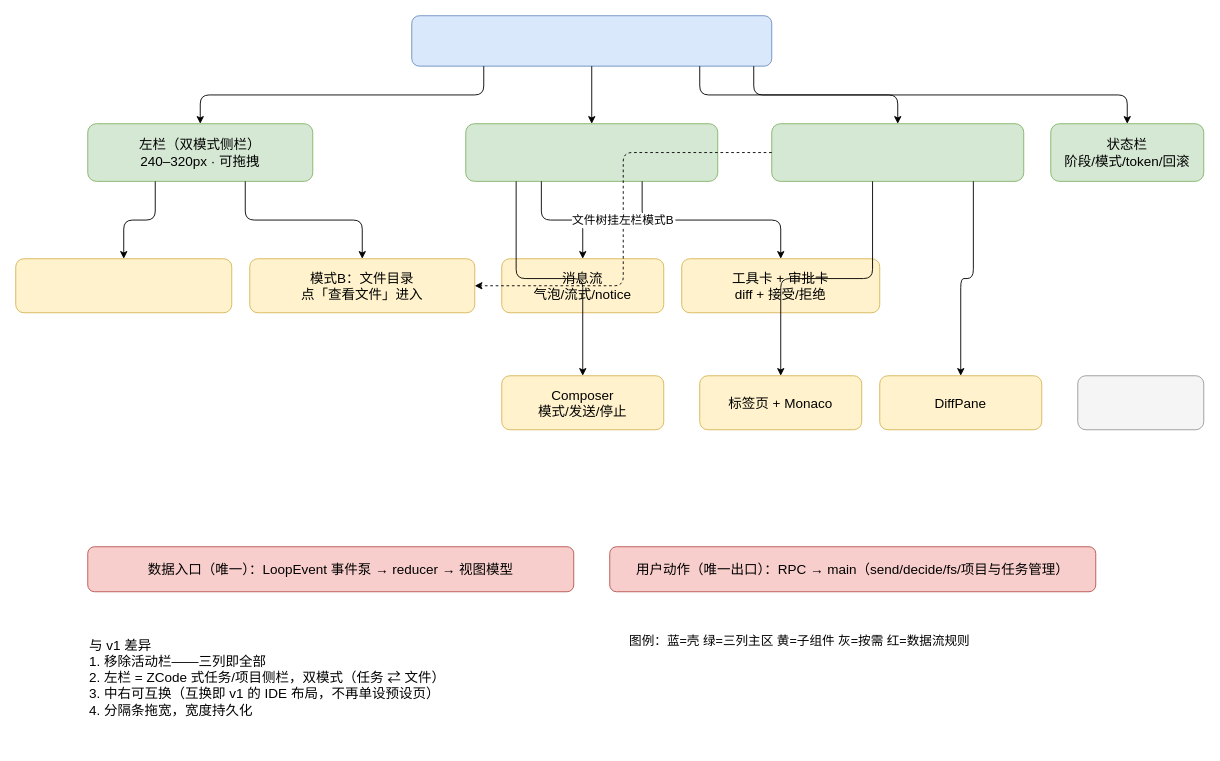
This 1220x761 diagram has some shape labels left out. Each missing label, with the centre of its shape:
"App 壳（无活动栏 · 三列布局）" belongs at (x=591, y=40).
"中列：对话（主舞台） ⇄ 可与右列互换" belongs at (x=591, y=152).
"右列：编辑器 ⇄ 可与中列互换" belongs at (x=897, y=152).
"模式A：任务列表 新建/插件市场/项目分组任务" belongs at (x=123, y=285).
"设置 / 事件时间线（按需浮出，不变）" belongs at (x=1140, y=402).
